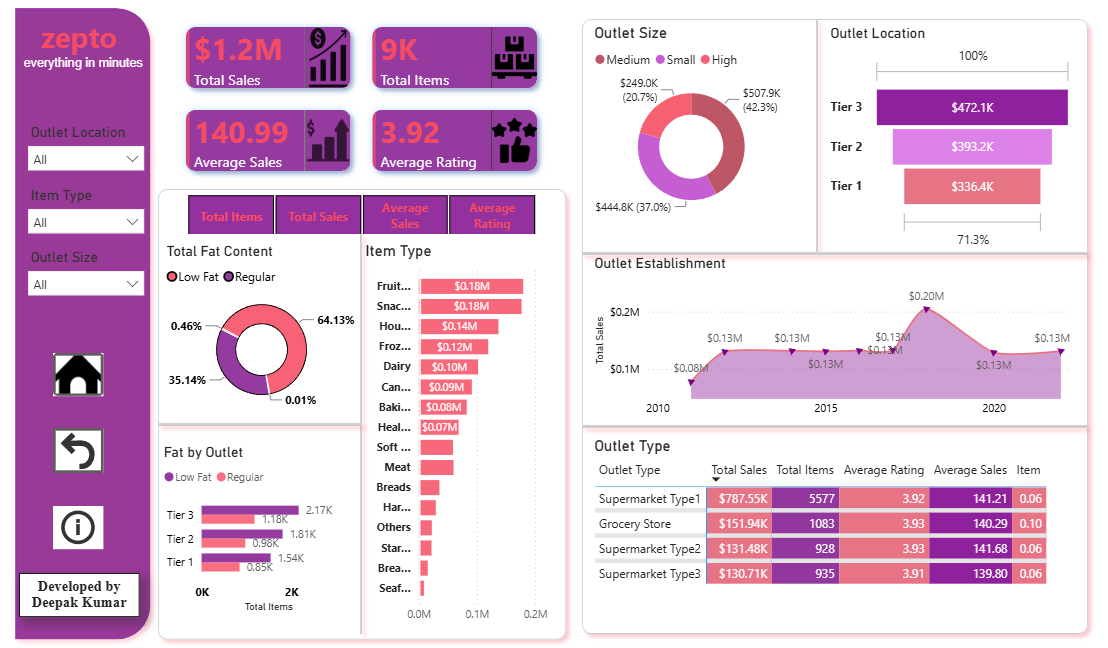

This screenshot's page, from the dashboard's own definition file:
{"tool":"powerbi","page":{"name":"Page 1","canvas":[1280,720],"ordinal":0},"visuals":[{"type":"shape","box":[10.3,0,168.4,719.7],"z":0},{"type":"textbox","box":[23.1,12.9,133.7,54],"z":1000},{"type":"textbox","box":[23.1,55.3,145.2,78.4],"z":2000},{"type":"cardVisual","fields":{"Data":["BlinkIT Grocery Data.Total Sales","BlinkIT Grocery Data.Total Items","BlinkIT Grocery Data.Average Sales","BlinkIT Grocery Data.Average Rating"]},"box":[178.8,0,451.2,220],"z":3000},{"type":"shape","box":[168.6,201.4,471.4,518.6],"z":4000},{"type":"slicer","fields":{"Values":["Parameter.Parameter"]},"box":[185,210,435,50],"z":5000},{"type":"donutChart","title":"Total Fat Content","fields":{"Y":["BlinkIT Grocery Data.Total Items","BlinkIT Grocery Data.Total Sales","BlinkIT Grocery Data.Average Sales","BlinkIT Grocery Data.Average Rating"],"Category":["BlinkIT Grocery Data.Item Fat Content"]},"box":[182.5,268.8,221.2,192.5],"z":6000},{"type":"clusteredBarChart","title":"Fat by Outlet ","fields":{"Y":["BlinkIT Grocery Data.Total Items"],"Category":["BlinkIT Grocery Data.Outlet Location Type"],"Series":["BlinkIT Grocery Data.Item Fat Content"]},"box":[182.5,472.5,221.2,227.5],"z":7000},{"type":"barChart","title":"Item Type","fields":{"Y":["BlinkIT Grocery Data.Total Items","BlinkIT Grocery Data.Total Sales","BlinkIT Grocery Data.Average Sales","BlinkIT Grocery Data.Average Rating"],"Category":["BlinkIT Grocery Data.Item Type"]},"box":[403.8,268.8,212.5,431.2],"z":8000},{"type":"shape","box":[393.8,251.2,20,462.5],"z":9000},{"type":"shape","box":[168.8,461.2,245,21.2],"z":10000},{"type":"shape","box":[640,12.5,580,701.2],"z":10001},{"type":"donutChart","title":"Outlet Size","fields":{"Category":["BlinkIT Grocery Data.Outlet Size"],"Y":["BlinkIT Grocery Data.Total Sales"]},"box":[657.5,26.2,225,225],"z":10002},{"type":"funnel","title":"Outlet Location","fields":{"Category":["BlinkIT Grocery Data.Outlet Location Type"],"Y":["BlinkIT Grocery Data.Total Sales"]},"box":[920,26.2,278.8,255],"z":10003},{"type":"lineChart","title":"Outlet Establishment","fields":{"Y":["BlinkIT Grocery Data.Total Sales"],"Category":["BlinkIT Grocery Data.Outlet Establishment Year"]},"box":[657.5,282.5,541.2,190],"z":10004},{"type":"shape","box":[900,12.5,20,277.5],"z":10005},{"type":"shape","box":[640,271.2,580,21.2],"z":10006},{"type":"pivotTable","title":"Outlet Type ","fields":{"Rows":["BlinkIT Grocery Data.Outlet Type"],"Values":["BlinkIT Grocery Data.Total Sales","BlinkIT Grocery Data.Total Items","BlinkIT Grocery Data.Average Rating","BlinkIT Grocery Data.Average Sales","Avg(BlinkIT Grocery Data.Item Visibility)"]},"box":[657.5,485,541.2,200],"z":10007},{"type":"shape","box":[640,463.8,580,21.2],"z":10008},{"type":"slicer","fields":{"Values":["BlinkIT Grocery Data.Item Type"]},"box":[23.8,202.5,148.8,68.8],"z":10009},{"type":"slicer","fields":{"Values":["BlinkIT Grocery Data.Outlet Location Type"]},"box":[23.8,132.5,148.8,68.8],"z":10010},{"type":"slicer","fields":{"Values":["BlinkIT Grocery Data.Outlet Size"]},"box":[23.8,271.2,148.8,68.8],"z":10011},{"type":"actionButton","box":[61.2,392.5,56.2,47.5],"z":10012},{"type":"actionButton","box":[61.2,475,56.2,50],"z":10013},{"type":"actionButton","box":[61.2,562.5,56.2,47.5],"z":10014},{"type":"textbox","box":[23.8,636.2,133.8,48.8],"z":10015}]}

Visuals, with their boxes on the page's 1280x720 design canvas (x1, y1, x2, y2). These are canvas units, not pixel positions in the 1108x648 screenshot, which may show the page scaled, cropped or inside an application window:
shape: bbox=(10, 0, 179, 720)
textbox: bbox=(23, 13, 157, 67)
textbox: bbox=(23, 55, 168, 134)
cardVisual - BlinkIT Grocery Data.Total Sales x BlinkIT Grocery Data.Total Items: bbox=(179, 0, 630, 220)
shape: bbox=(169, 201, 640, 720)
slicer - Parameter.Parameter: bbox=(185, 210, 620, 260)
"Total Fat Content" donutChart: bbox=(182, 269, 404, 461)
"Fat by Outlet " clusteredBarChart: bbox=(182, 472, 404, 700)
"Item Type" barChart: bbox=(404, 269, 616, 700)
shape: bbox=(394, 251, 414, 714)
shape: bbox=(169, 461, 414, 482)
shape: bbox=(640, 12, 1220, 714)
"Outlet Size" donutChart: bbox=(658, 26, 882, 251)
"Outlet Location" funnel: bbox=(920, 26, 1199, 281)
"Outlet Establishment" lineChart: bbox=(658, 282, 1199, 472)
shape: bbox=(900, 12, 920, 290)
shape: bbox=(640, 271, 1220, 292)
"Outlet Type " pivotTable: bbox=(658, 485, 1199, 685)
shape: bbox=(640, 464, 1220, 485)
slicer - BlinkIT Grocery Data.Item Type: bbox=(24, 202, 173, 271)
slicer - BlinkIT Grocery Data.Outlet Location Type: bbox=(24, 132, 173, 201)
slicer - BlinkIT Grocery Data.Outlet Size: bbox=(24, 271, 173, 340)
actionButton: bbox=(61, 392, 117, 440)
actionButton: bbox=(61, 475, 117, 525)
actionButton: bbox=(61, 562, 117, 610)
textbox: bbox=(24, 636, 158, 685)
